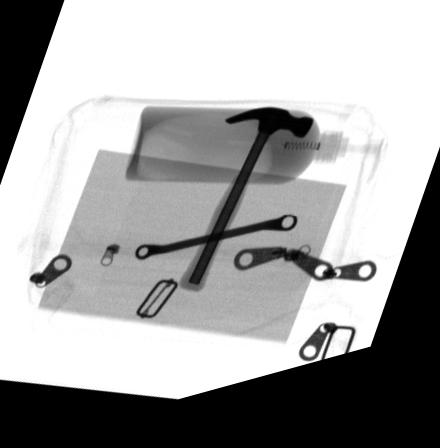Hammer: (176, 121, 313, 301)
Wrench: (134, 229, 297, 268)
